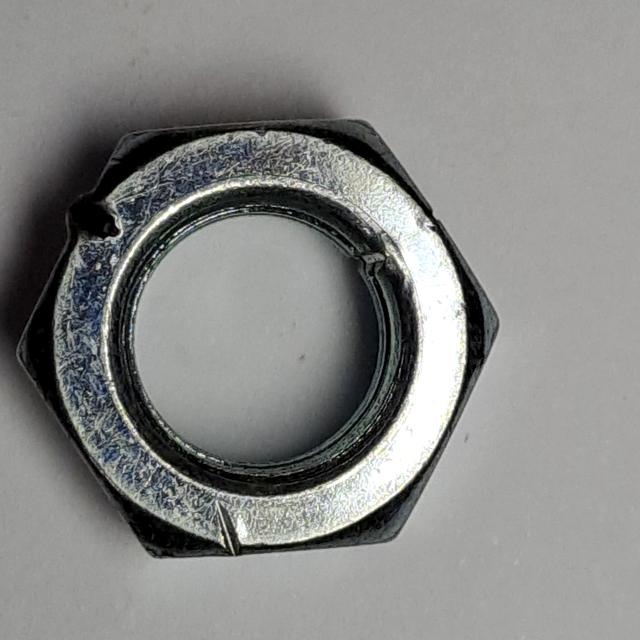Scratches: (4, 102, 510, 583)
